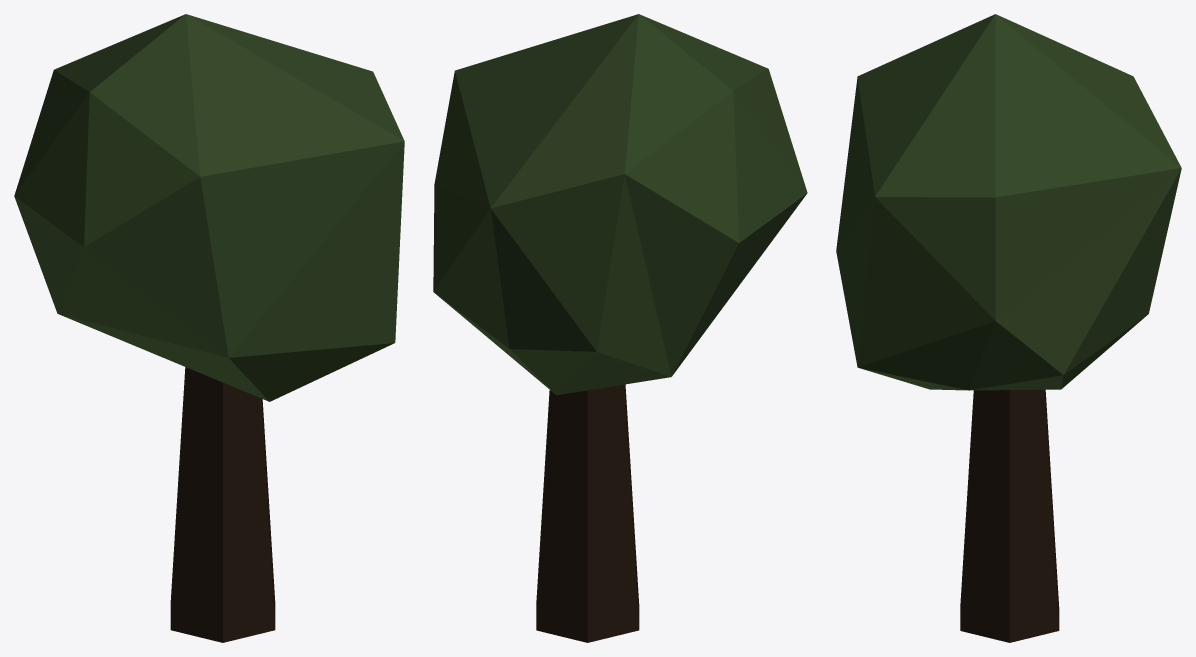
The model's file is tree_3.FBX.
3 views of the same model, side by side, from view 1: azimuth 30°, elevation 25°; view 2: azimuth 150°, elevation 25°; view 3: azimuth 270°, elevation 25° (orthographic). The views are drawn at different scales.
Visible parts, largest first — view 1: tree_3; view 2: tree_3; view 3: tree_3.
Part boxes in pixels (<box>): tree_3: <box>14,14,404,642</box>; tree_3: <box>433,14,807,642</box>; tree_3: <box>836,14,1181,642</box>.
Size of the model in its own units: 26.51 by 45.54 by 24.41.
